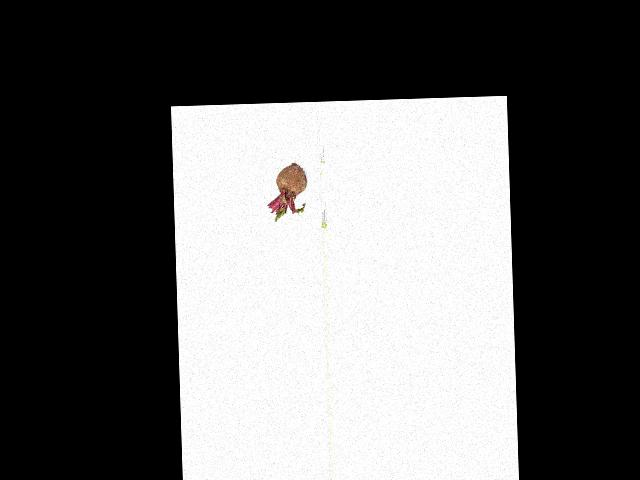beet: (266, 161, 307, 221)
